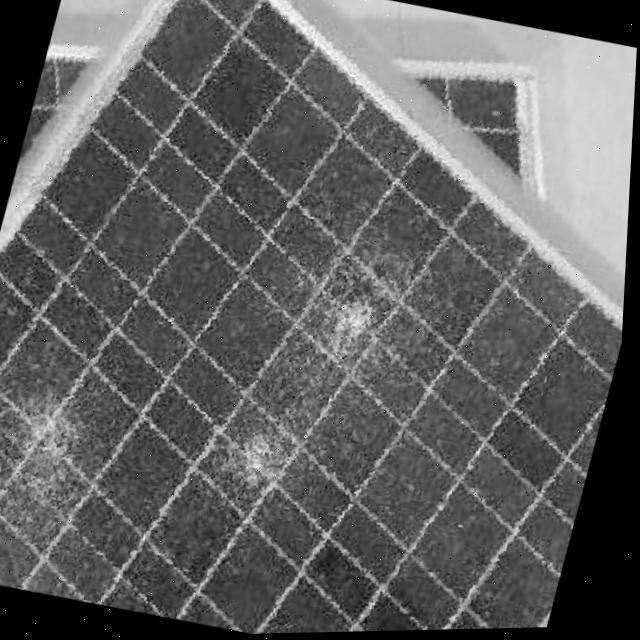Structural Damage: (309, 242, 443, 381), (0, 398, 99, 532), (216, 405, 318, 507)
